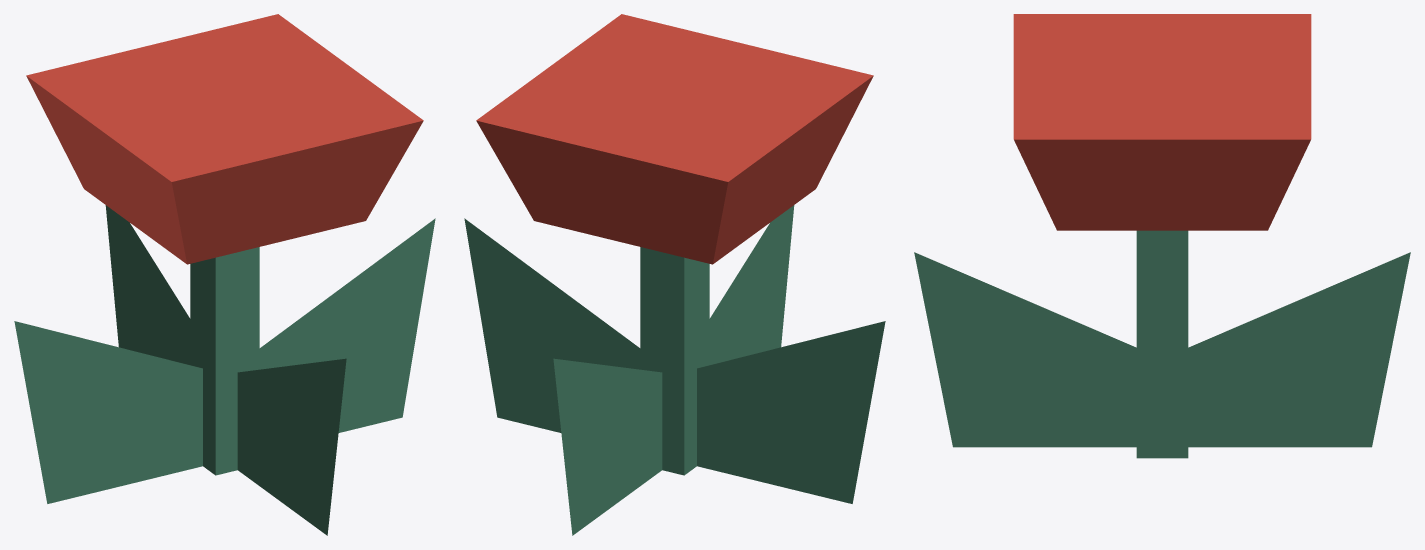
The model's file is Flower_Red_01.obj.
3 renders of one model, left to right at view 1: azimuth 30°, elevation 25°; view 2: azimuth 150°, elevation 25°; view 3: azimuth 270°, elevation 25°, orthographic. The views are drawn at different scales.
Parts seen in each view (by area): view 1: Mesh4_Flower_Red_Model; view 2: Mesh4_Flower_Red_Model; view 3: Mesh4_Flower_Red_Model.
Boxes of the visible parts, x1,y1,x2,y2 form: Mesh4_Flower_Red_Model: (14, 14, 435, 535); Mesh4_Flower_Red_Model: (464, 14, 885, 535); Mesh4_Flower_Red_Model: (914, 14, 1410, 458).
Size of the model in its own units: 0.4859 by 0.4 by 0.4859.
